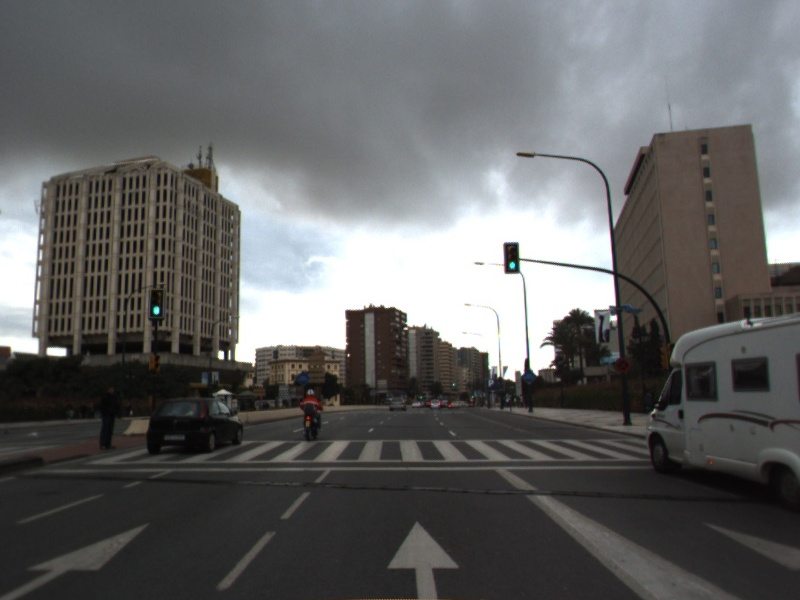STRAIGHT: (1, 519, 153, 600), (385, 519, 462, 600)
